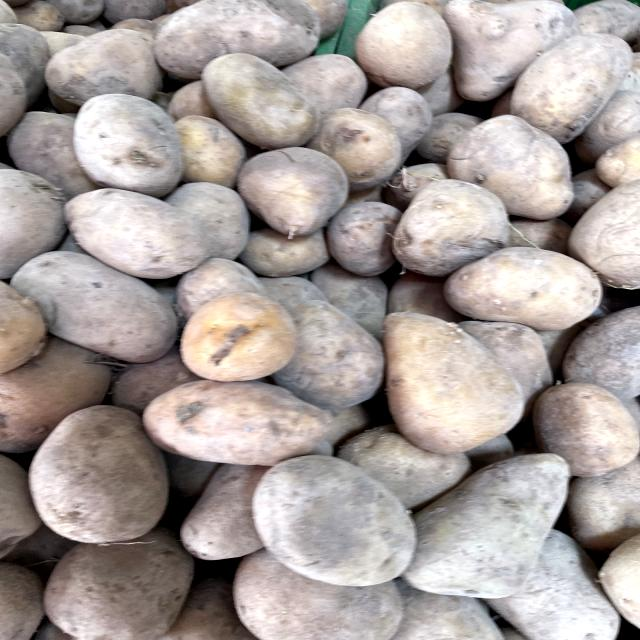potato: (369, 292, 535, 457), (14, 395, 194, 546), (250, 450, 434, 591), (53, 178, 224, 291), (435, 247, 613, 335), (193, 49, 343, 149), (372, 172, 512, 274), (169, 281, 300, 388), (69, 85, 195, 196), (232, 140, 349, 243), (349, 0, 460, 89)
